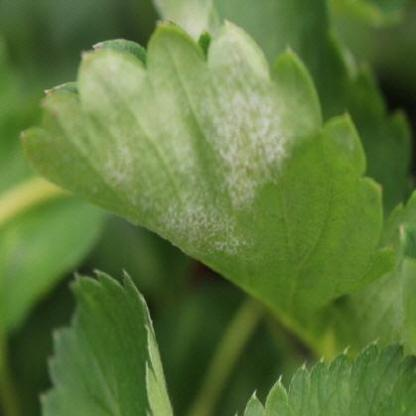Strawberry_Powdery_Mildew_Leaf: (19, 17, 398, 330)
